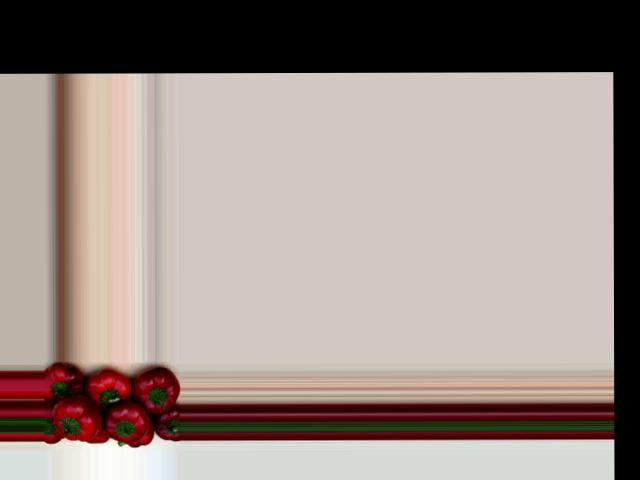bell_pepper: (90, 426, 109, 446)
